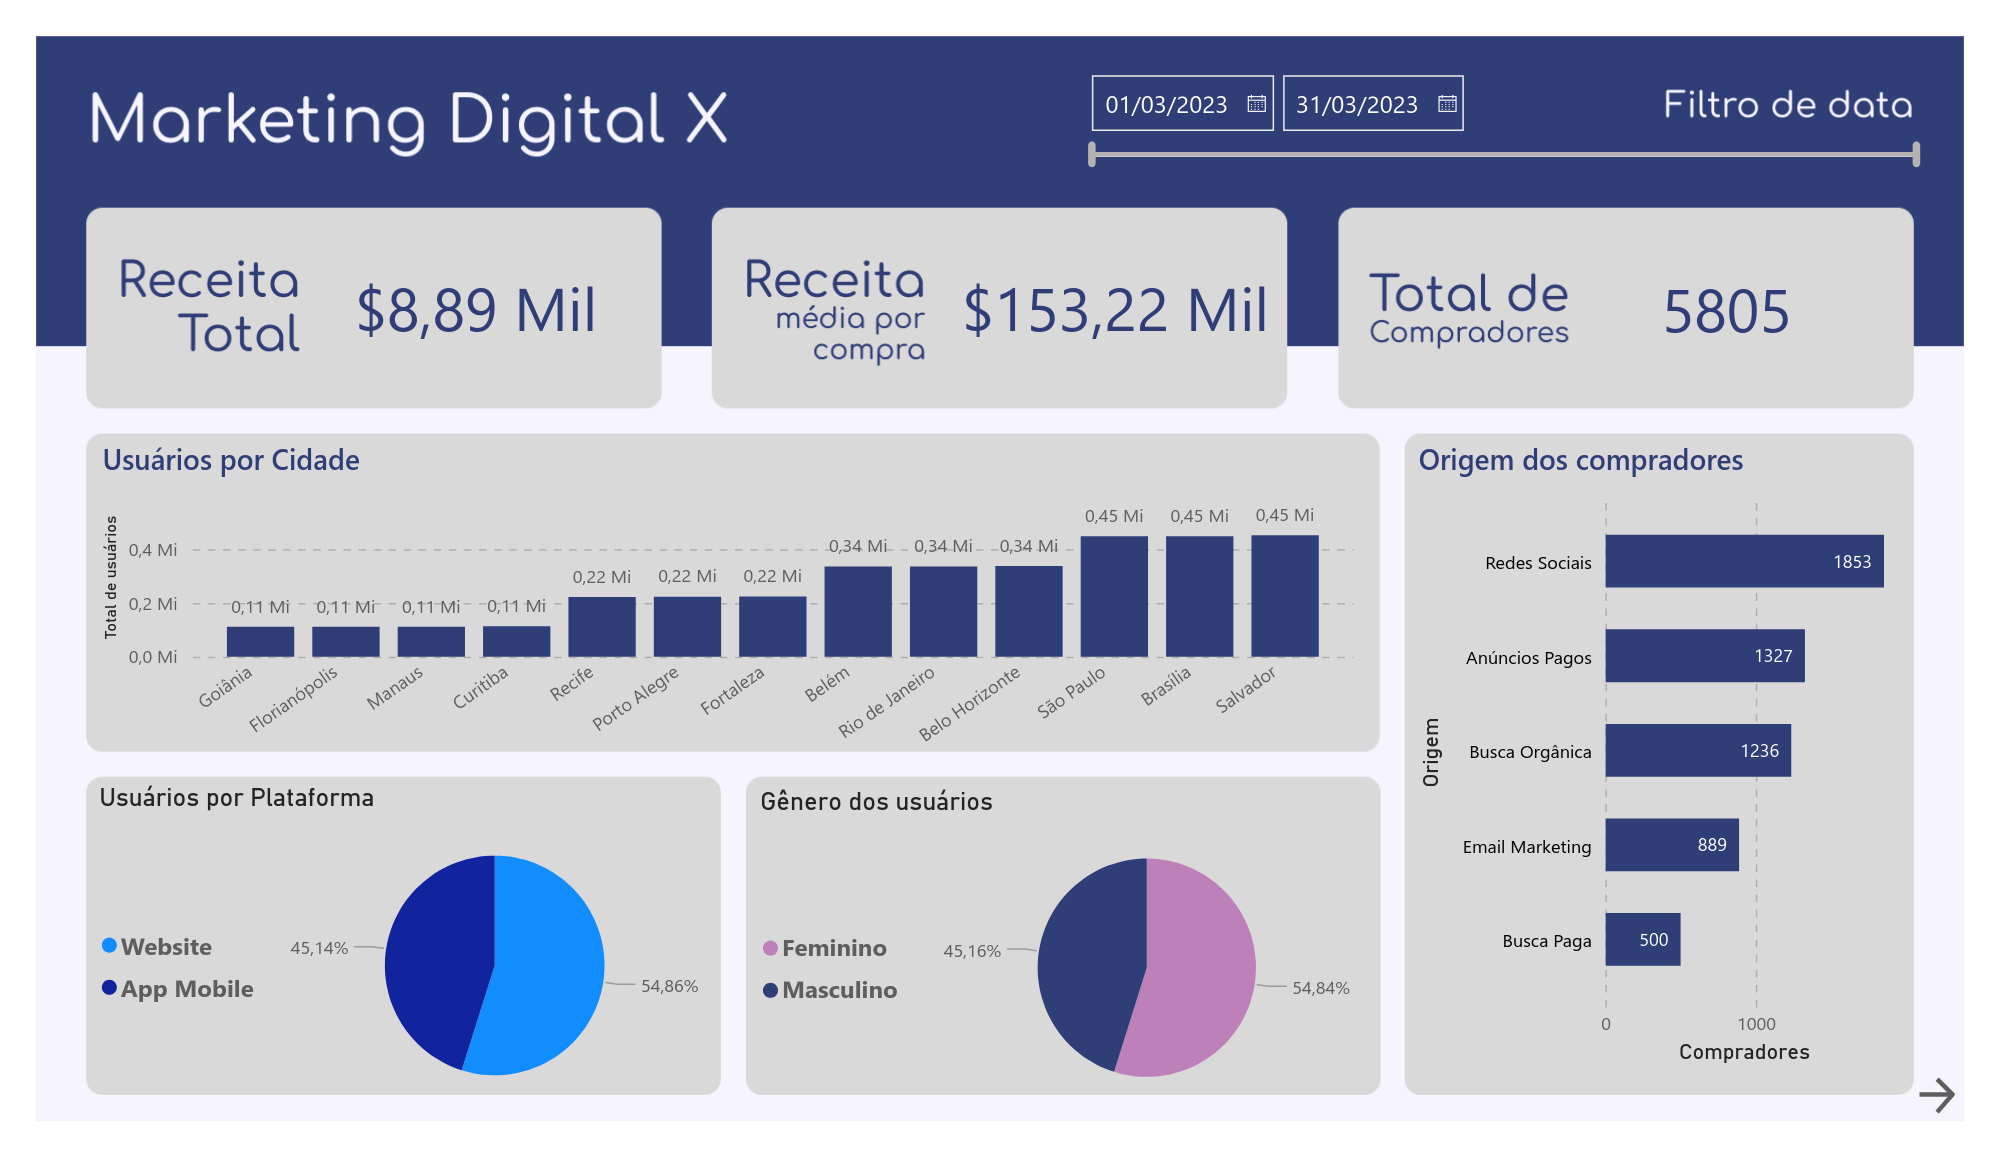

This screenshot's page, from the dashboard's own definition file:
{"tool":"powerbi","page":{"name":"Página 1","canvas":[1280,720],"ordinal":0},"visuals":[{"type":"card","fields":{"Values":["Sum(Planilha1.Receita Total)"]},"box":[553.8,131.9,325.6,96.4],"z":0},{"type":"slicer","fields":{"Values":["Planilha1.Data"]},"box":[687.7,16.2,576.1,101.4],"z":1000},{"type":"card","fields":{"Values":["Sum(Planilha1.Receita Média por Compra)"]},"box":[107.5,123.7,368.2,112.6],"z":2000},{"type":"pieChart","title":"Gênero dos usuários","fields":{"Category":["Planilha1.Gênero"],"Y":["CountNonNull(Planilha1.Gênero)"]},"box":[475.7,498,421.9,222.1],"z":3000},{"type":"pieChart","title":"Usuários por Plataforma","fields":{"Category":["Planilha1.Plataforma Utilizada"],"Y":["Sum(Planilha1.Usuários Ativos)"]},"box":[36.5,495,422.9,225.2],"z":4000},{"type":"clusteredBarChart","title":"Origem dos compradores","fields":{"Category":["Planilha1.Origem"],"Y":["Sum(Planilha1.Número de Compradores)"]},"box":[912.8,267.8,331.7,418.9],"z":5000},{"type":"clusteredColumnChart","title":"Usuários por Cidade","fields":{"Category":["Planilha1.Cidade"],"Y":["Sum(Planilha1.Usuários Total)"]},"box":[38.5,267.8,841.8,214],"z":6000},{"type":"card","fields":{"Values":["Sum(Planilha1.Número de Compradores)"]},"box":[993,105.5,258.6,150.1],"z":7000},{"type":"actionButton","box":[1244.5,686.7,35.5,33.5],"z":8000}]}

Visuals, with their boxes in screenshot pixels (x1, y1, x2, y2), scaled from the page's 1280x720 canvas onto the 2000x1156 screenshot:
card - Sum(Planilha1.Receita Total): bbox=(865, 212, 1374, 367)
slicer - Planilha1.Data: bbox=(1075, 26, 1975, 189)
card - Sum(Planilha1.Receita Média por Compra): bbox=(168, 199, 743, 379)
"Gênero dos usuários" pieChart: bbox=(743, 800, 1402, 1155)
"Usuários por Plataforma" pieChart: bbox=(57, 795, 718, 1155)
"Origem dos compradores" clusteredBarChart: bbox=(1426, 430, 1945, 1103)
"Usuários por Cidade" clusteredColumnChart: bbox=(60, 430, 1375, 774)
card - Sum(Planilha1.Número de Compradores): bbox=(1552, 169, 1956, 410)
actionButton: bbox=(1945, 1103, 1999, 1155)
